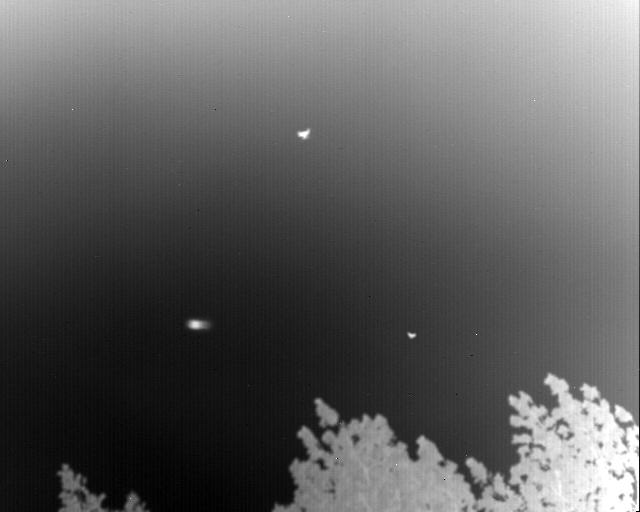plane: (297, 128, 311, 140), (407, 331, 417, 339)
